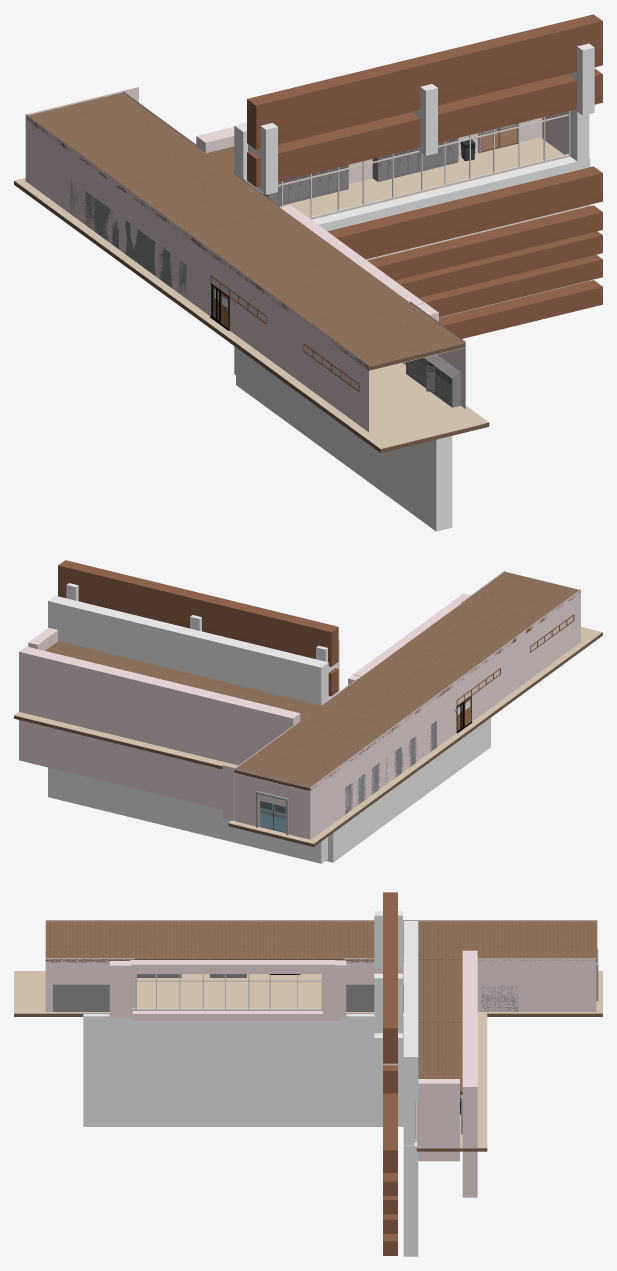
Rendered from RiscuitsHallwayVersion2.gltf.
The picture shows the model from 3 angles, top to bottom: view 1: azimuth 30°, elevation 25°; view 2: azimuth 150°, elevation 25°; view 3: azimuth 270°, elevation 25°; orthographic projection. The views are drawn at different scales.
Parts seen in each view (by area): view 1: cuboid (×20); view 2: cuboid (×10); view 3: cuboid (×19).
Boxes of the visible parts, box(x1,y1,x2,y2) form: cuboid (×20): box(14, 14, 602, 531); cuboid (×10): box(14, 560, 602, 863); cuboid (×19): box(14, 892, 602, 1256).
Size of the model in its own units: 28.12 by 17.09 by 39.5.
Materials: 20 (20 with a texture image).
